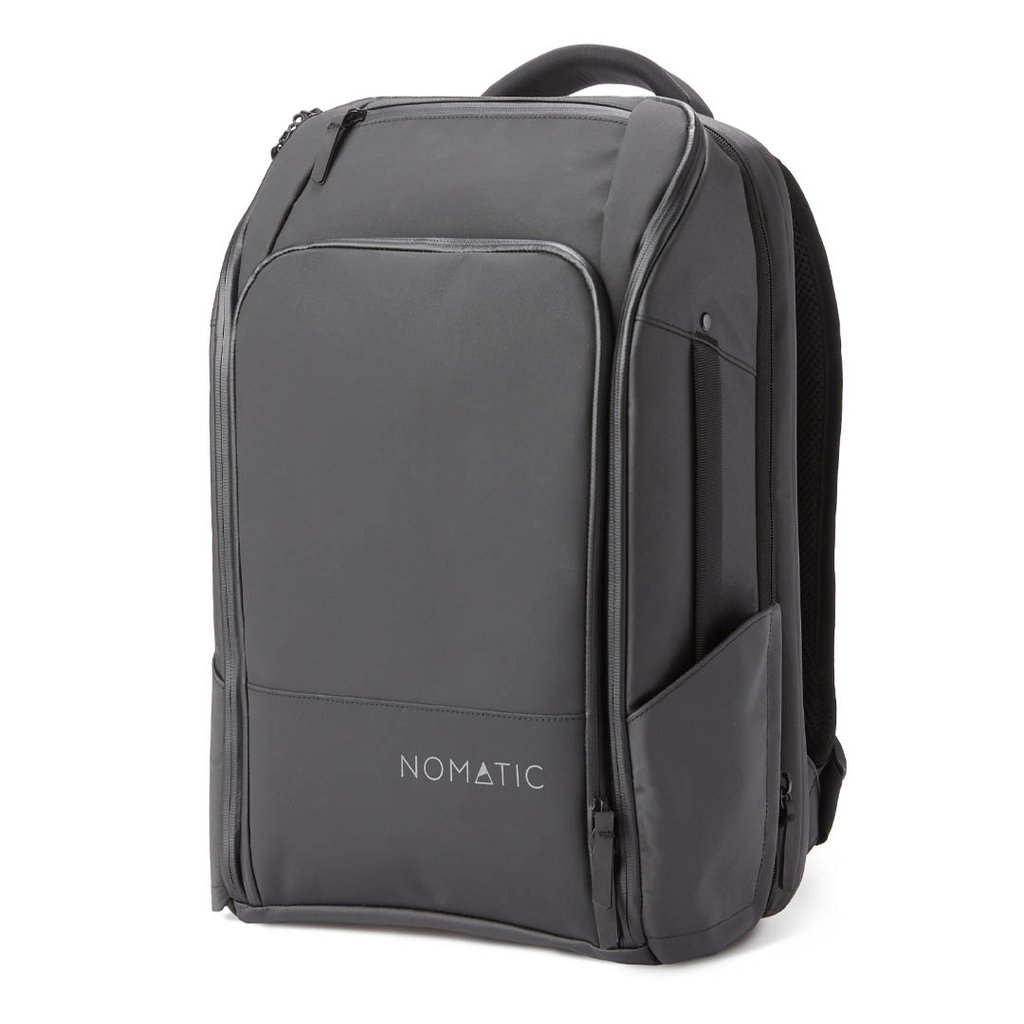backpack: (190, 19, 866, 976)
